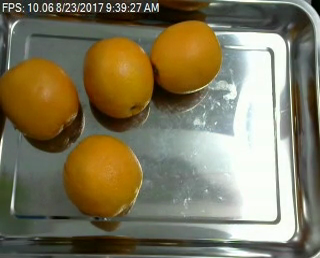Orange: (63, 135, 142, 218), (1, 58, 78, 139), (83, 37, 152, 118), (150, 19, 221, 94)
